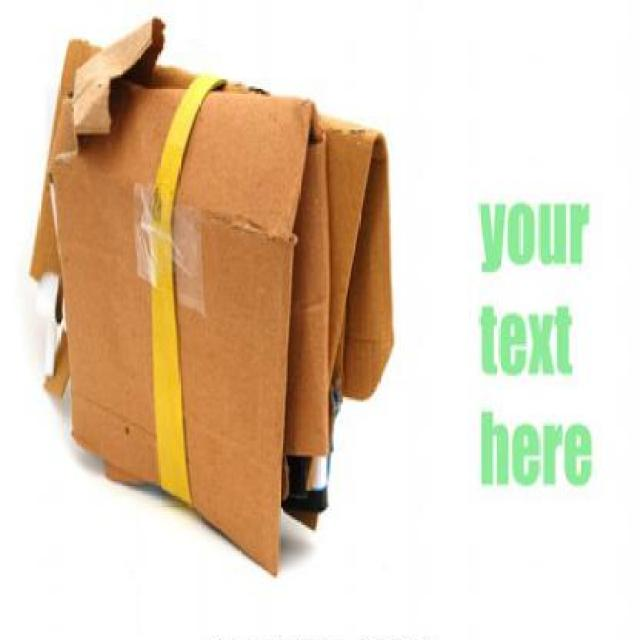box: (31, 16, 400, 582)
